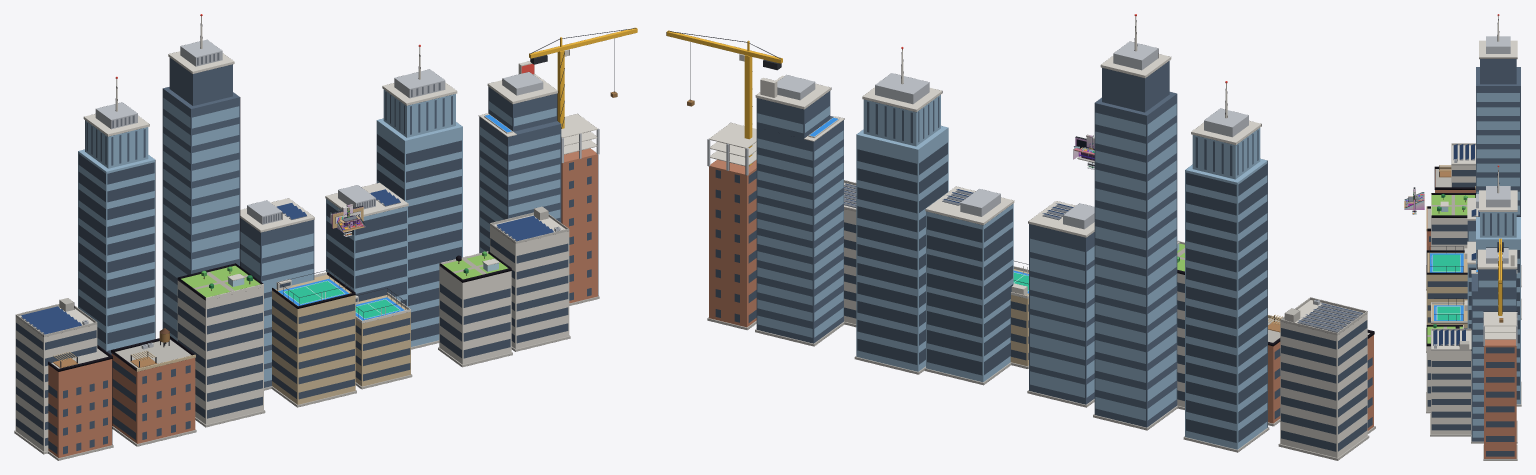
The model's file is fps-kit-techhq.glb.
3 views of the same model, side by side, from view 1: azimuth 30°, elevation 25°; view 2: azimuth 150°, elevation 25°; view 3: azimuth 270°, elevation 25° (orthographic). The views are drawn at different scales.
Visible parts, largest first — view 1: KIT_TECHHQ_Backdrop_RowA, KIT_TECHHQ_Backdrop_RowB; view 2: KIT_TECHHQ_Backdrop_RowB, KIT_TECHHQ_Backdrop_RowA; view 3: KIT_TECHHQ_Backdrop_RowA, KIT_TECHHQ_Backdrop_RowB, KIT_TECHHQ_Landmark_Bleacher.
Part boxes in pixels (<box>): KIT_TECHHQ_Backdrop_RowA: <box>48,27,637,460</box>; KIT_TECHHQ_Backdrop_RowB: <box>14,14,561,454</box>; KIT_TECHHQ_Backdrop_RowB: <box>755,14,1369,460</box>; KIT_TECHHQ_Backdrop_RowA: <box>666,30,1375,452</box>; KIT_TECHHQ_Backdrop_RowA: <box>1430,15,1521,460</box>; KIT_TECHHQ_Backdrop_RowB: <box>1426,14,1521,443</box>; KIT_TECHHQ_Landmark_Bleacher: <box>1404,192,1424,209</box>.
Bounding box in the file's own units: 280 × 160 × 57.43.
Materials: 1 (1 with a texture image).
